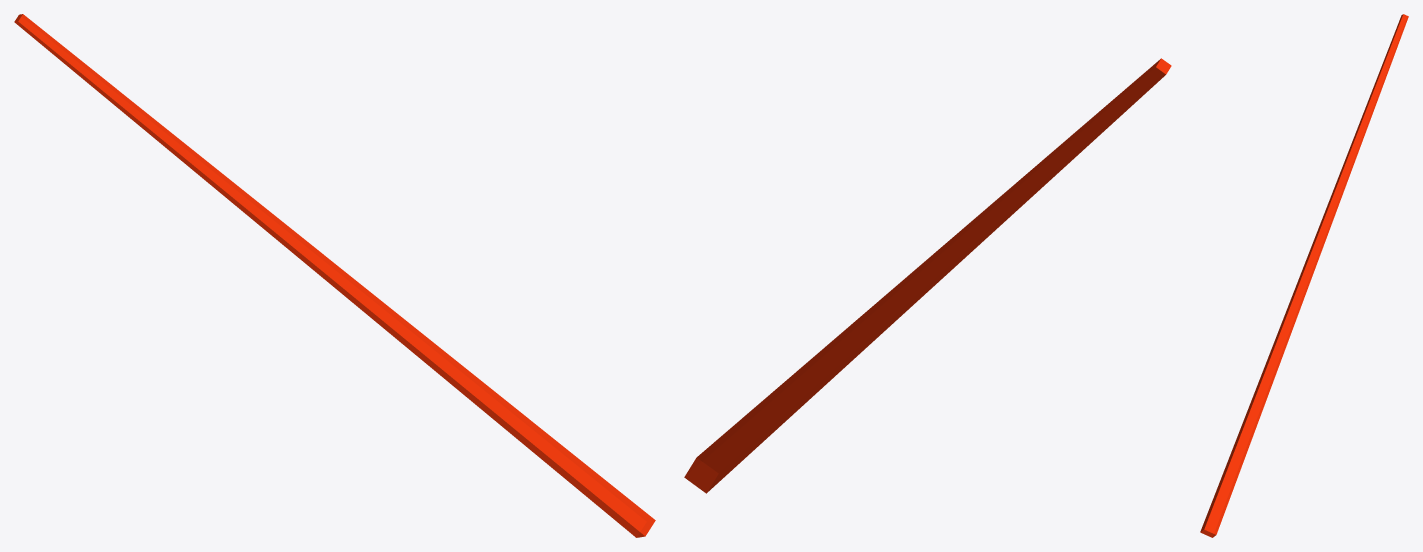
File: Event_421556567_EBrechit_19.fbx
The picture shows the model from 3 angles, left to right: view 1: azimuth 30°, elevation 25°; view 2: azimuth 150°, elevation 25°; view 3: azimuth 270°, elevation 25°; orthographic projection. The views are drawn at different scales.
Visible parts, largest first — view 1: Model; view 2: Model; view 3: Model.
Part boxes in pixels (bbox=[...]): Model: bbox=[14, 14, 655, 537]; Model: bbox=[684, 58, 1171, 493]; Model: bbox=[1200, 14, 1408, 537].
Size of the model in its own units: 3.52 by 3.67 by 1.89.
